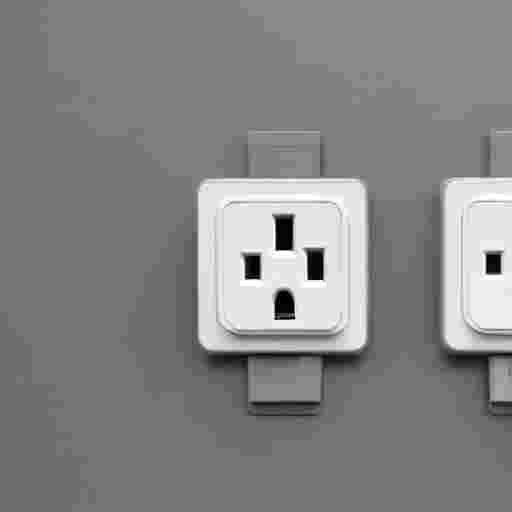power outlet: (198, 178, 367, 353), (441, 177, 511, 353)
